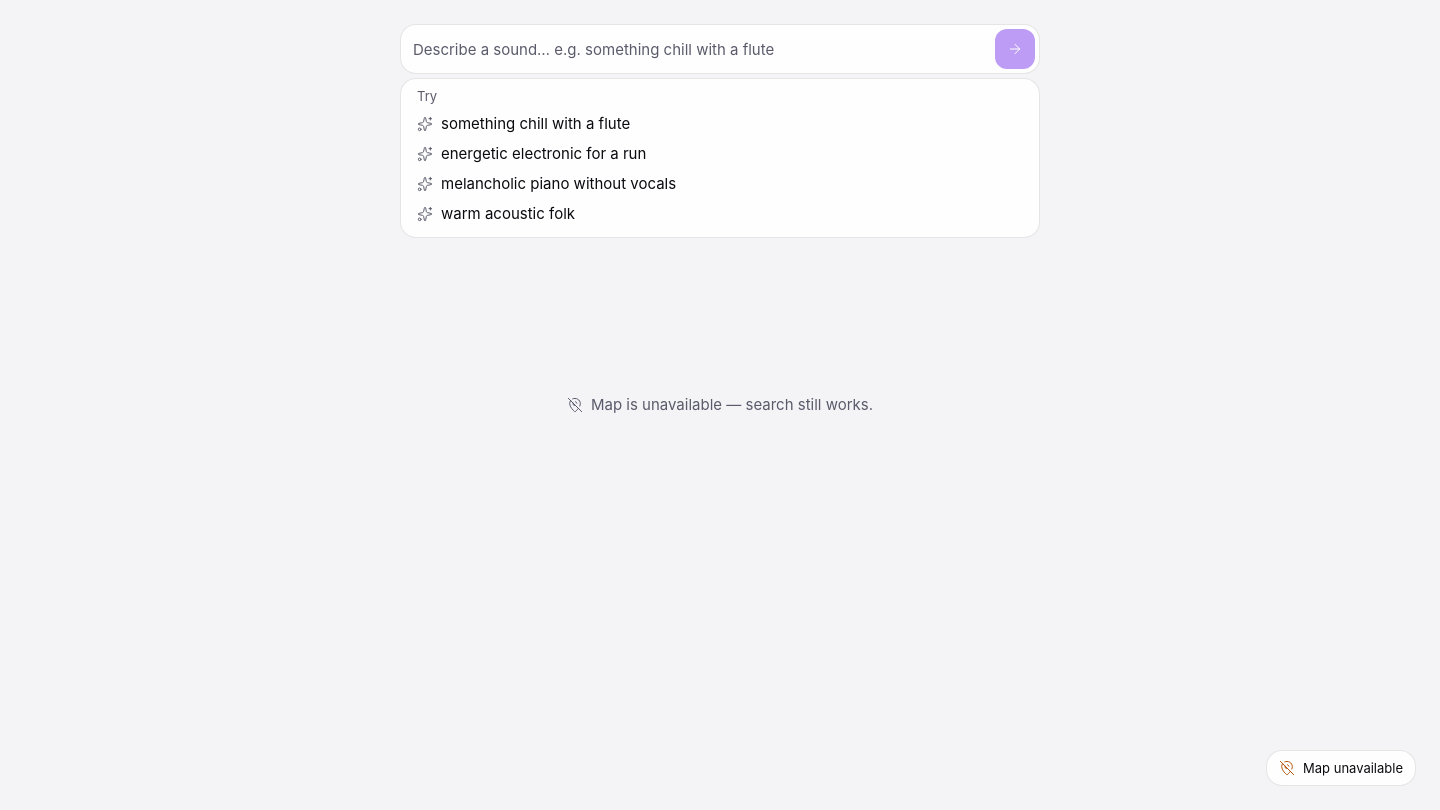
Test case: DiscoverPage › map down: the pill says so, and search works
Type "chill flute" into the field named "Search by describing a sound". click: (700, 49)
box: [413,29,987,69]
Then press Enter
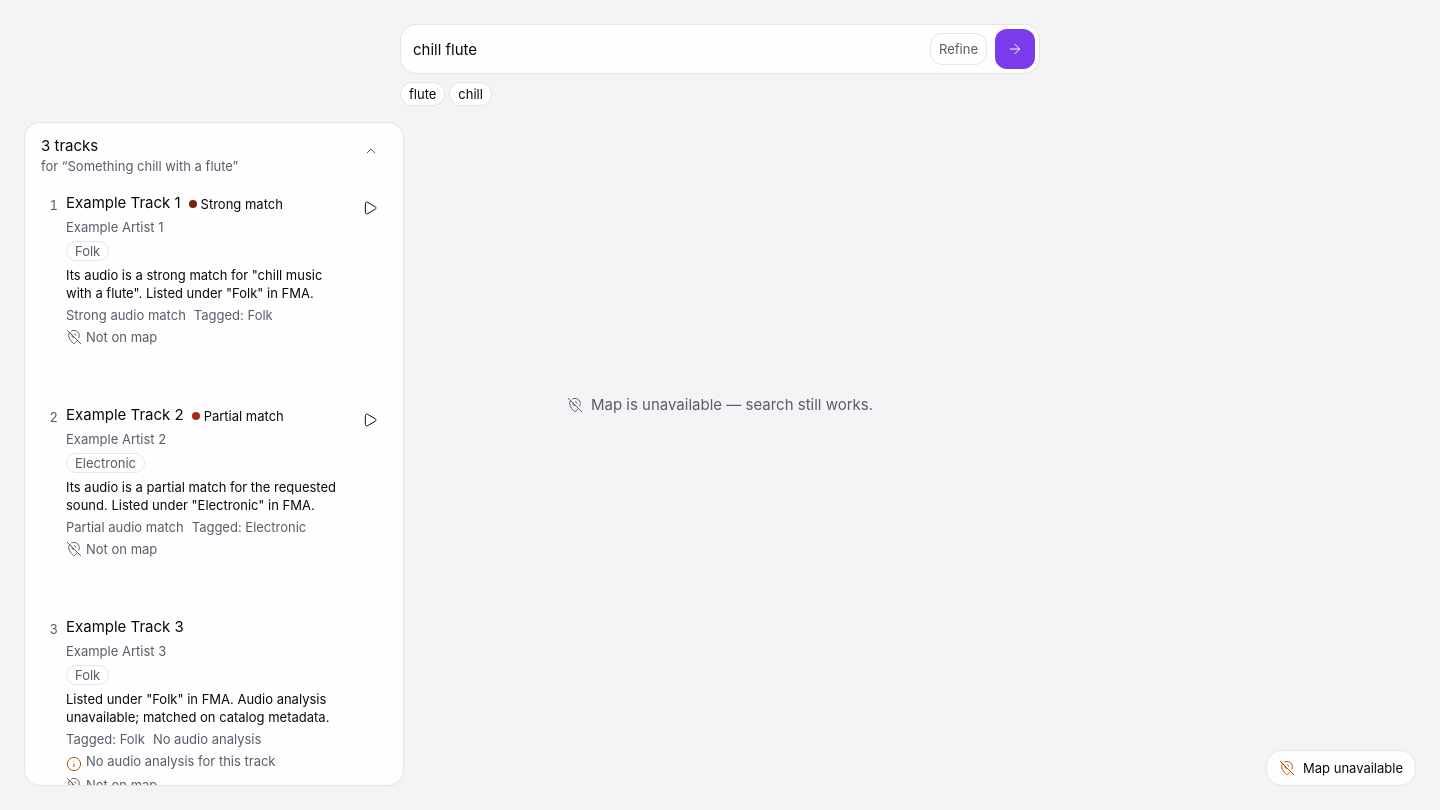
Expected: the text "Map unavailable" is shown, [1303,759,1403,777]
Result: the list named "Ranked results" is shown at [33,183,395,785]
